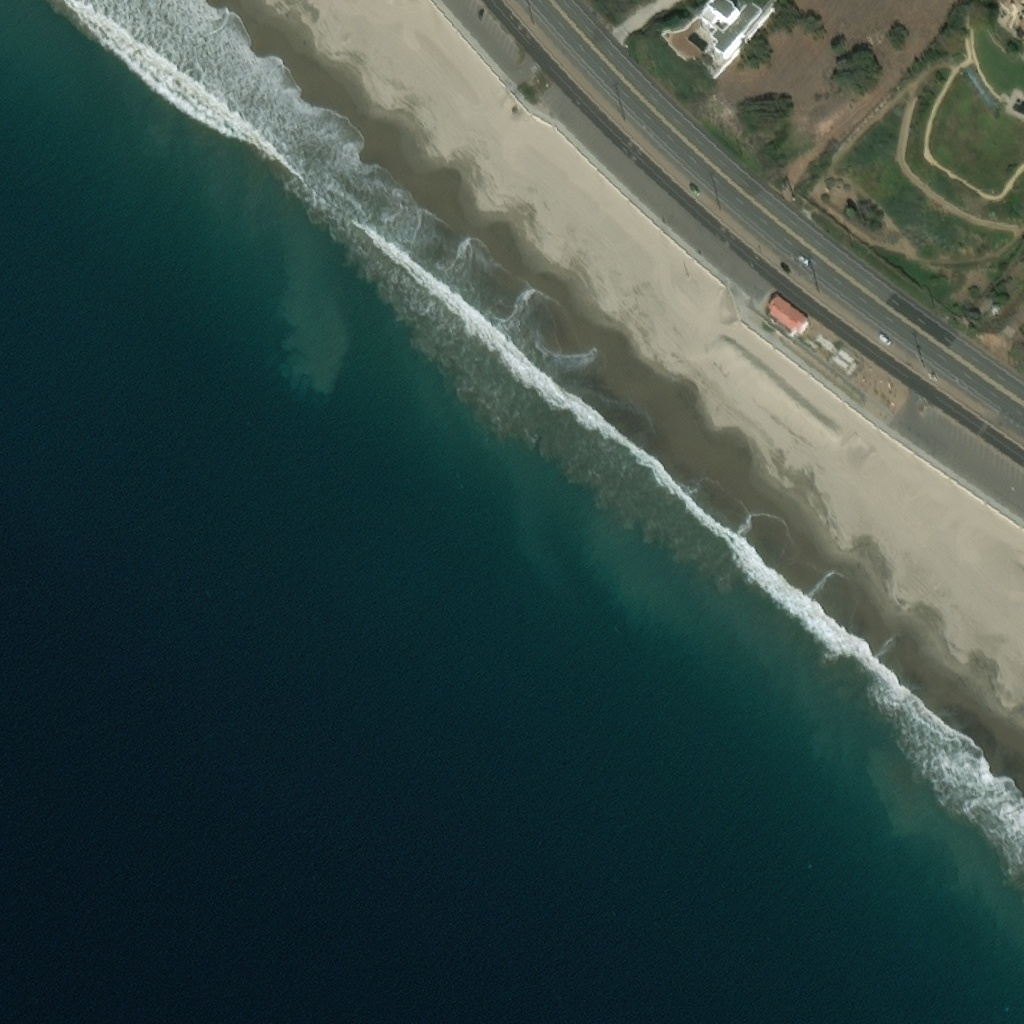0 no-damage: (697, 0, 762, 56), (768, 293, 809, 337)
3 destroyed: (812, 331, 863, 378), (803, 335, 818, 349), (692, 264, 704, 278), (989, 302, 1002, 311)
4 un-classified: (998, 0, 1023, 34)
